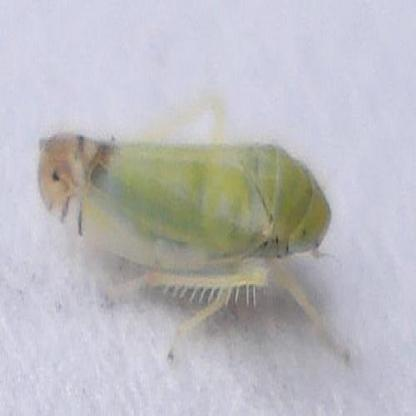green-leafhopper: (38, 122, 320, 330)
